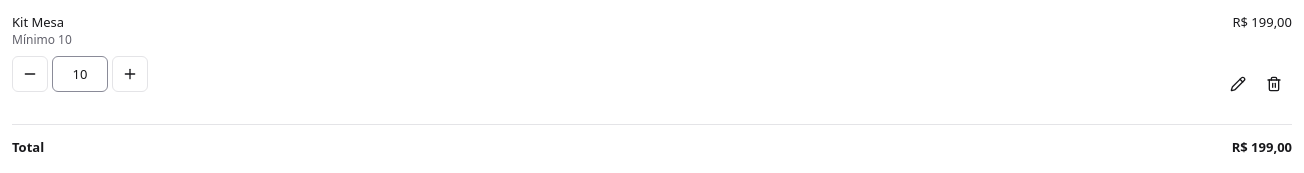
Test: Carrinho › não desce do mínimo e avisa; o mais soma
The width and height of the screenshot is (1304, 173).
Check: the field named "Quantidade de Kit Mesa" holds "10", box [52, 56, 108, 92]
What coordinates should you click on to do the following:
click the button named "Menos Kit Mesa"
I would click on:
 (30, 74)
Its box is [12, 56, 48, 92].
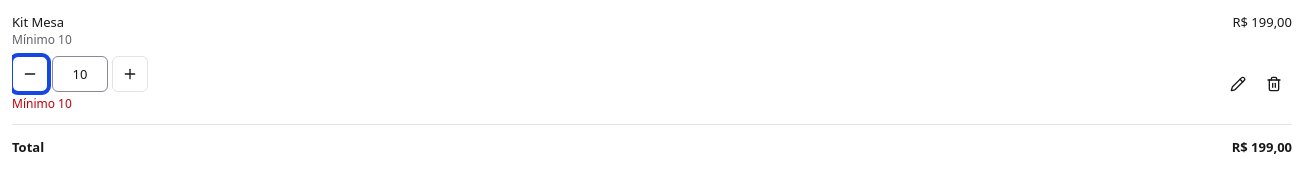
Check: the field named "Quantidade de Kit Mesa" holds "10", box [52, 56, 108, 92]
Check: the message reads "Mínimo 10", box [12, 95, 72, 112]
What coordinates should you click on to do the following:
click the button named "Mais Kit Mesa"
I would click on:
 (130, 74)
Its box is [112, 56, 148, 92].
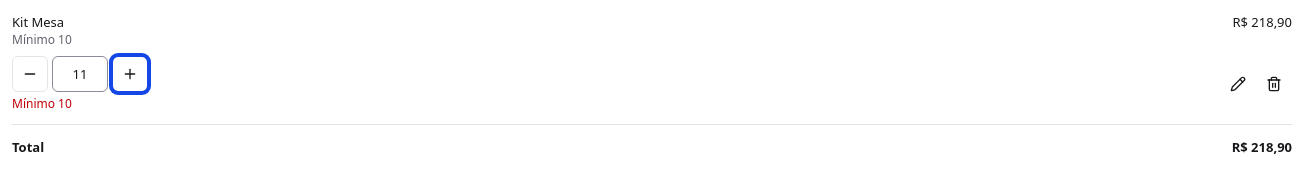
Check: the field named "Quantidade de Kit Mesa" holds "11", box [52, 56, 108, 92]
Check: the text with test id "total-da-venda" shows "218,90", box [1232, 138, 1292, 156]
